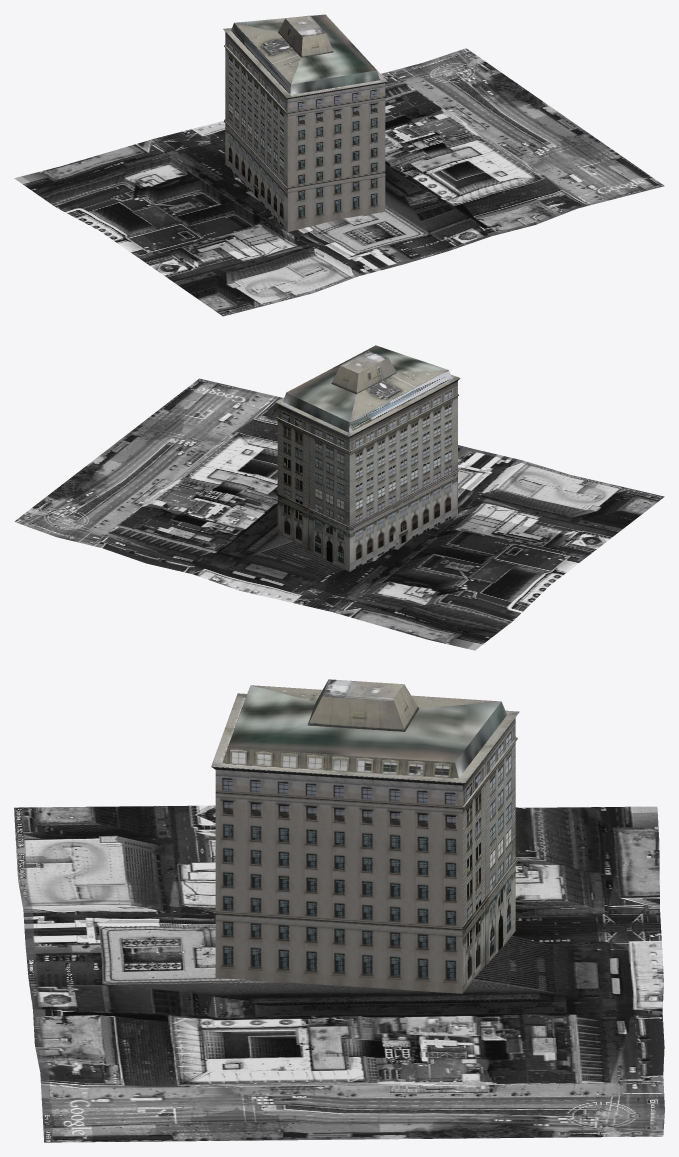
File: AKL-General-Buildings.fbx
3 views of the same model, one above another, from view 1: azimuth 30°, elevation 25°; view 2: azimuth 150°, elevation 25°; view 3: azimuth 270°, elevation 25° (orthographic). The views are drawn at different scales.
Visible parts, largest first — view 1: Google_Earth_Terrain, Model; view 2: Google_Earth_Terrain, Model; view 3: Google_Earth_Terrain, Model.
Part boxes in pixels (<box>): Google_Earth_Terrain: <box>14,48,664,316</box>; Model: <box>223,14,387,232</box>; Google_Earth_Terrain: <box>14,378,664,650</box>; Model: <box>275,345,460,571</box>; Google_Earth_Terrain: <box>14,805,664,1142</box>; Model: <box>211,679,519,993</box>.
Size of the model in its own units: 107 by 37.75 by 80.91.
